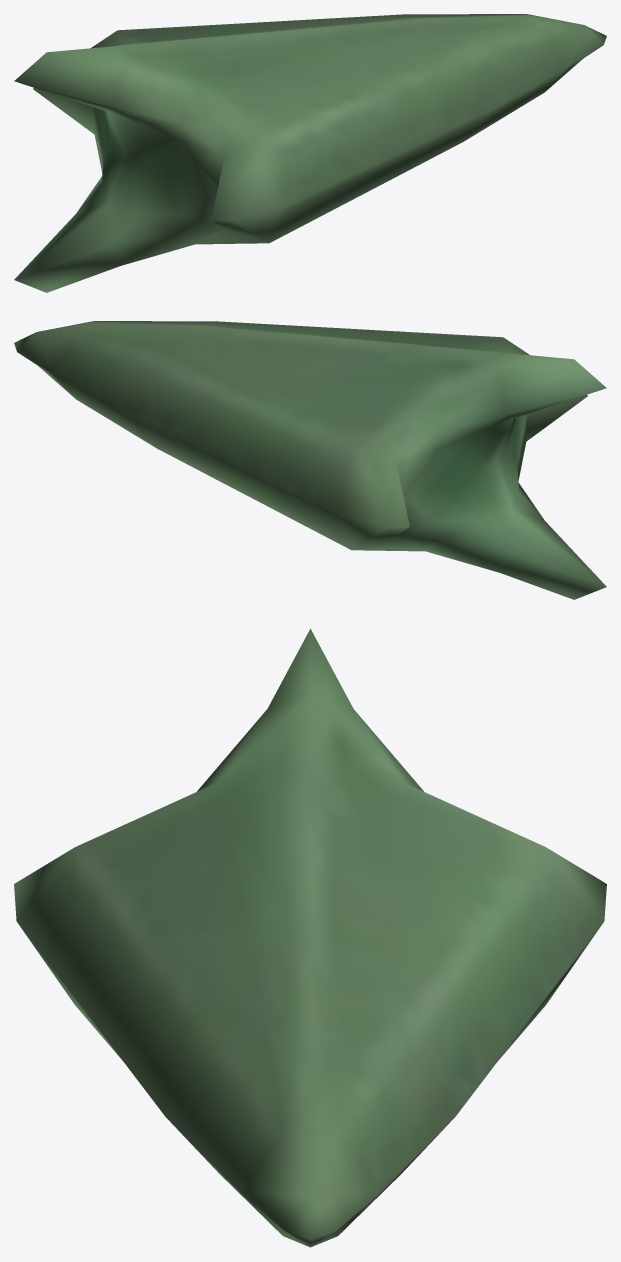
The picture shows the model from 3 angles, top to bottom: view 1: azimuth 30°, elevation 25°; view 2: azimuth 150°, elevation 25°; view 3: azimuth 270°, elevation 25°; orthographic projection. The views are drawn at different scales.
Visible parts, largest first — view 1: SM_CrossbowBolt_Iron_Gem_01_LOD0; view 2: SM_CrossbowBolt_Iron_Gem_01_LOD0; view 3: SM_CrossbowBolt_Iron_Gem_01_LOD0.
Part boxes in pixels (bbox=[...]): SM_CrossbowBolt_Iron_Gem_01_LOD0: bbox=[14, 14, 606, 292]; SM_CrossbowBolt_Iron_Gem_01_LOD0: bbox=[14, 321, 606, 599]; SM_CrossbowBolt_Iron_Gem_01_LOD0: bbox=[14, 628, 606, 1247].
Bounding box in the file's own units: 0.0526 × 0.0204 × 0.0294.
1 material, 1 textured.
